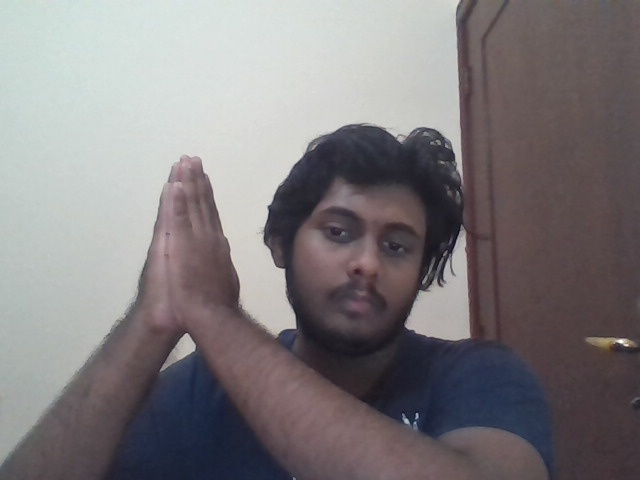namaste: (140, 155, 240, 331)
